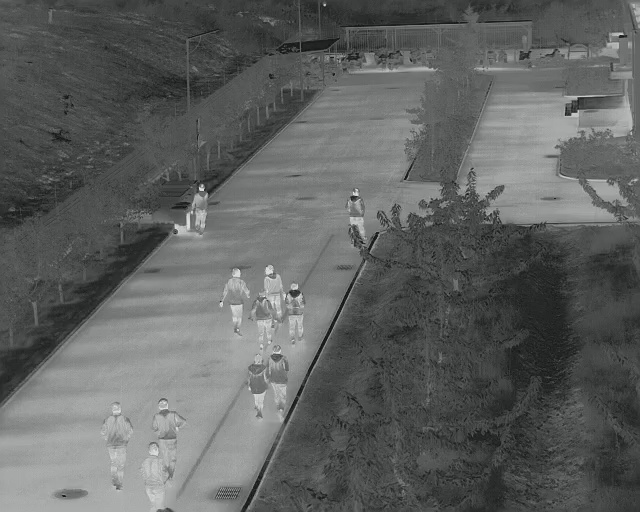person: (101, 402, 133, 491), (154, 398, 182, 480), (142, 445, 168, 507), (222, 268, 246, 334), (267, 346, 286, 419), (345, 188, 367, 239), (287, 282, 305, 343), (252, 292, 272, 343), (265, 266, 283, 318), (192, 185, 209, 236), (250, 353, 263, 418)
